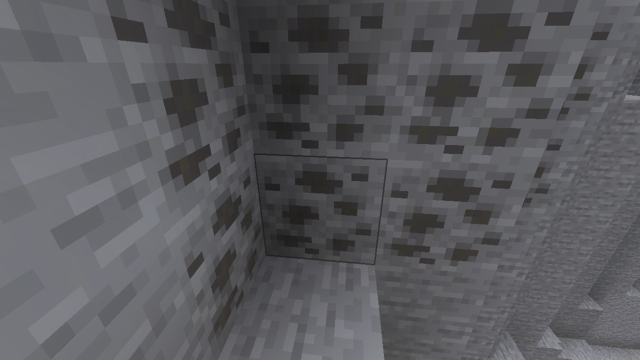coal: (91, 1, 617, 342)
